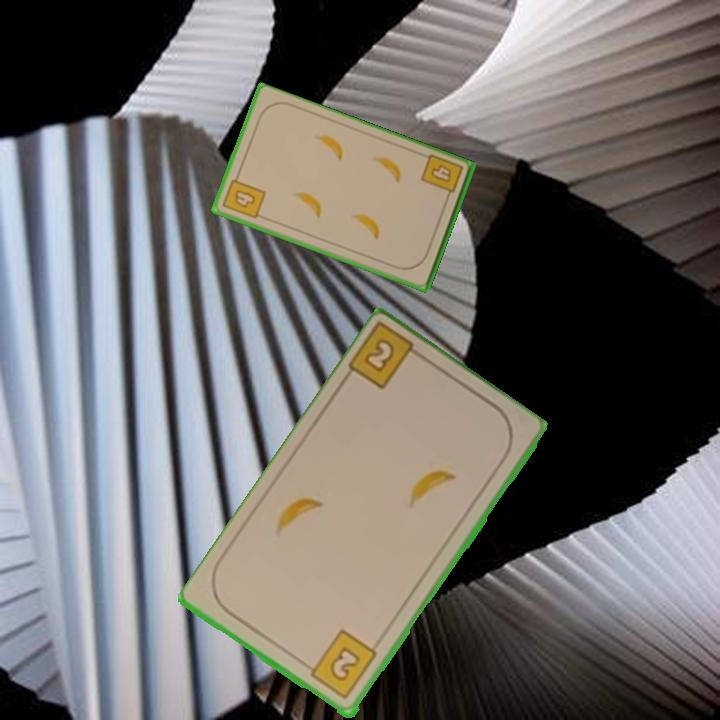2b: (300, 627, 381, 703), (345, 322, 430, 394)
4b: (219, 170, 269, 222), (417, 151, 466, 204)
